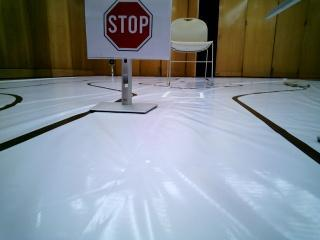stop: (90, 3, 168, 58)
